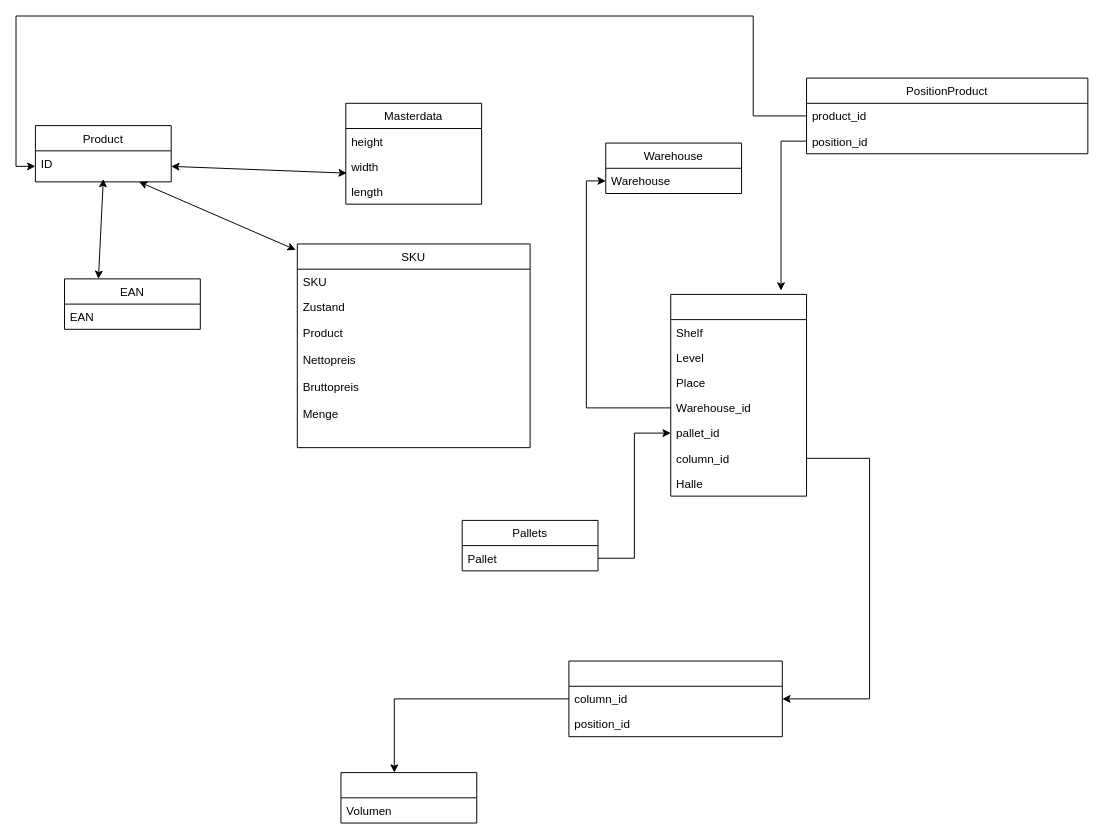
The diagram is 1104 pixels wide and 839 high, and some of its shapes have lost their labels. The box of each missing label's shape, as (x1, y1, x2, y2) in pixels:
Column: (340, 772, 477, 823)
ColumnPlace: (568, 660, 782, 737)
Positions: (670, 293, 807, 496)
